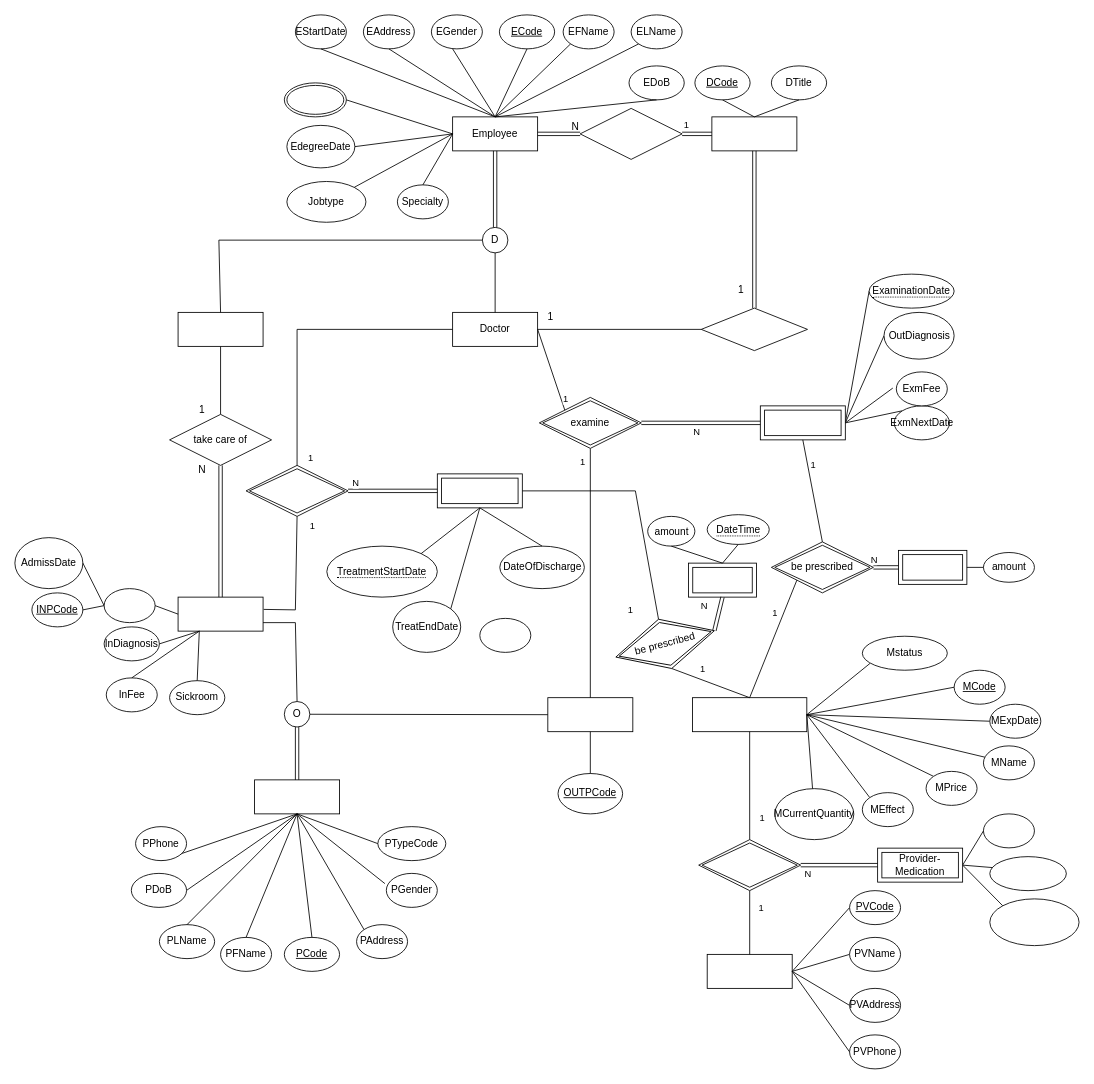
Some shapes in this 1094 by 1084 pixel diagram are drawn without their labels. Each missing label, with the centre of its shape:
"Combine PCode" belongs at pixel 129 605.
"Department" belongs at pixel 754 133.
"EPhone" belongs at pixel 314 99.
"Examination Report" belongs at pixel 802 422.
"Imported Date" belongs at pixel 1008 830.
"ImportedPrice" belongs at pixel 1027 873.
"ImportedQuantity" belongs at pixel 1034 922.
"Inpatient" belongs at pixel 220 613.
"Inpatient Prescription" belongs at pixel 722 579.
"InResult" belongs at pixel 505 635.
"is Dean of" belongs at pixel 754 329.
"Nurse" belongs at pixel 220 329.
"Outpatient" belongs at pixel 590 714.
"Outpatient Prescription" belongs at pixel 932 567.
"PackageOfMedications" belongs at pixel 749 714.
"Patient" belongs at pixel 297 796.
"Provide" belongs at pixel 749 865.
"Provider" belongs at pixel 749 971.
"treat" belongs at pixel 296 490.
"Treatment Report" belongs at pixel 479 490.
"work for" belongs at pixel 630 133.
